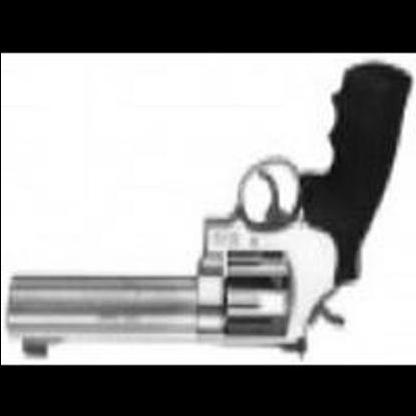weapon: (6, 59, 412, 359)
